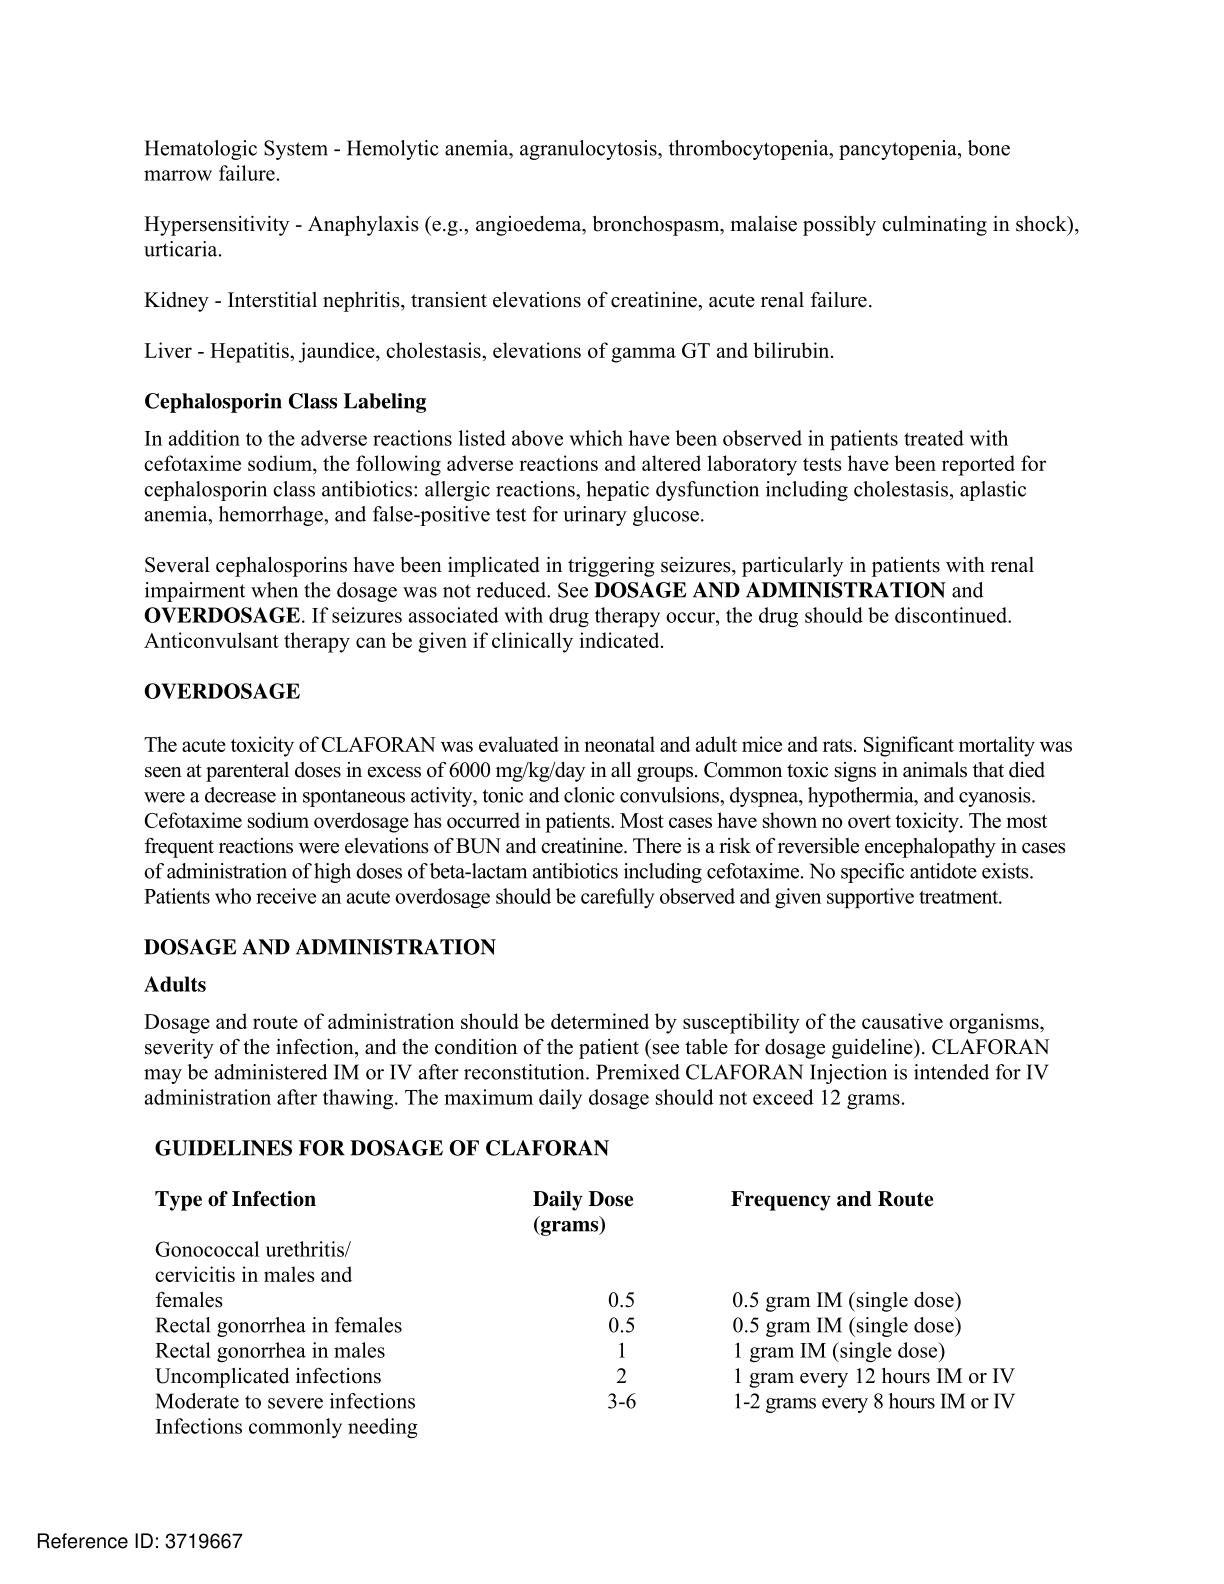nolines: (149, 1185, 1018, 1437)
